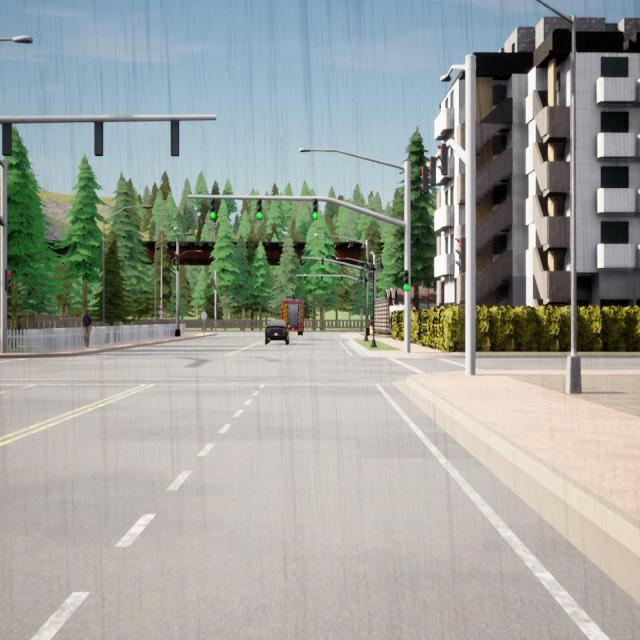Pedestrian: (82, 310, 93, 348)
Traffic_Signs: (201, 313, 207, 319)
Vehicle: (280, 299, 304, 335), (264, 320, 288, 345)
traffic_light: (456, 237, 466, 277), (438, 144, 448, 175), (426, 157, 436, 186), (3, 124, 12, 155), (95, 121, 103, 155), (172, 121, 180, 155), (419, 166, 428, 194), (5, 270, 12, 292), (210, 198, 216, 220), (256, 199, 262, 219), (313, 199, 318, 220), (404, 271, 408, 291), (340, 277, 343, 284), (322, 259, 324, 269), (320, 276, 322, 284), (304, 276, 306, 284), (216, 304, 218, 310), (212, 280, 214, 286), (211, 279, 212, 285)
